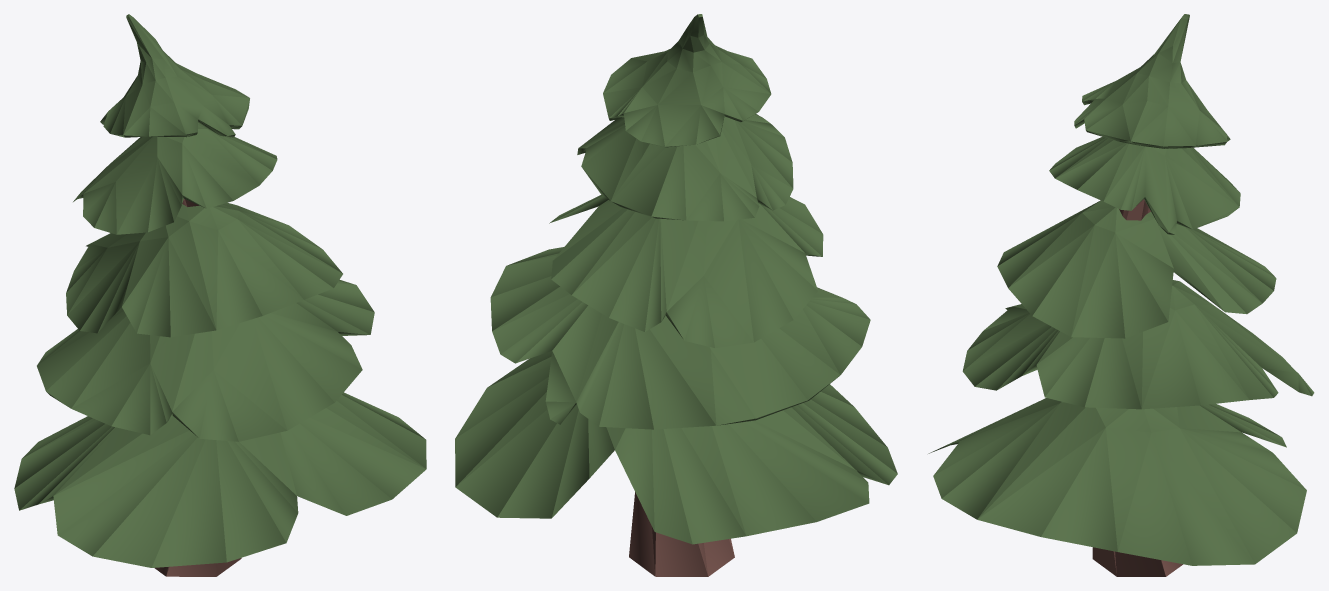
Rendered from PineTree_1_far.glb.
The picture shows the model from 3 angles, left to right: view 1: azimuth 30°, elevation 25°; view 2: azimuth 150°, elevation 25°; view 3: azimuth 270°, elevation 25°; orthographic projection. The views are drawn at different scales.
Visible parts, largest first — view 1: PineTree_1_Far; view 2: PineTree_1_Far; view 3: PineTree_1_Far.
Part boxes in pixels (x1=…): PineTree_1_Far: x1=14, y1=14, x2=426, y2=576; PineTree_1_Far: x1=455, y1=14, x2=897, y2=576; PineTree_1_Far: x1=928, y1=14, x2=1314, y2=576.
Bounding box in the file's own units: 1.95 × 2.7 × 1.8.
